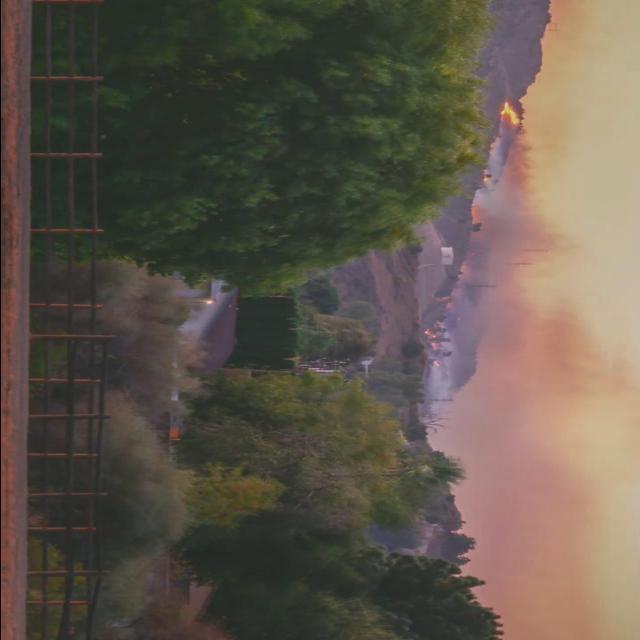Fire: (496, 99, 521, 125), (422, 328, 436, 338), (481, 169, 491, 182), (429, 341, 439, 351), (432, 361, 442, 367)
